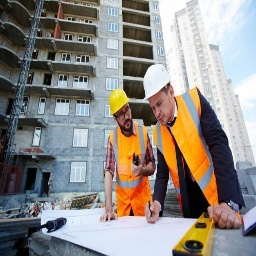helmet: (141, 62, 170, 103), (108, 87, 132, 120)
person: (142, 63, 227, 232), (101, 88, 157, 224)
vest: (155, 100, 217, 209), (108, 128, 153, 206)
